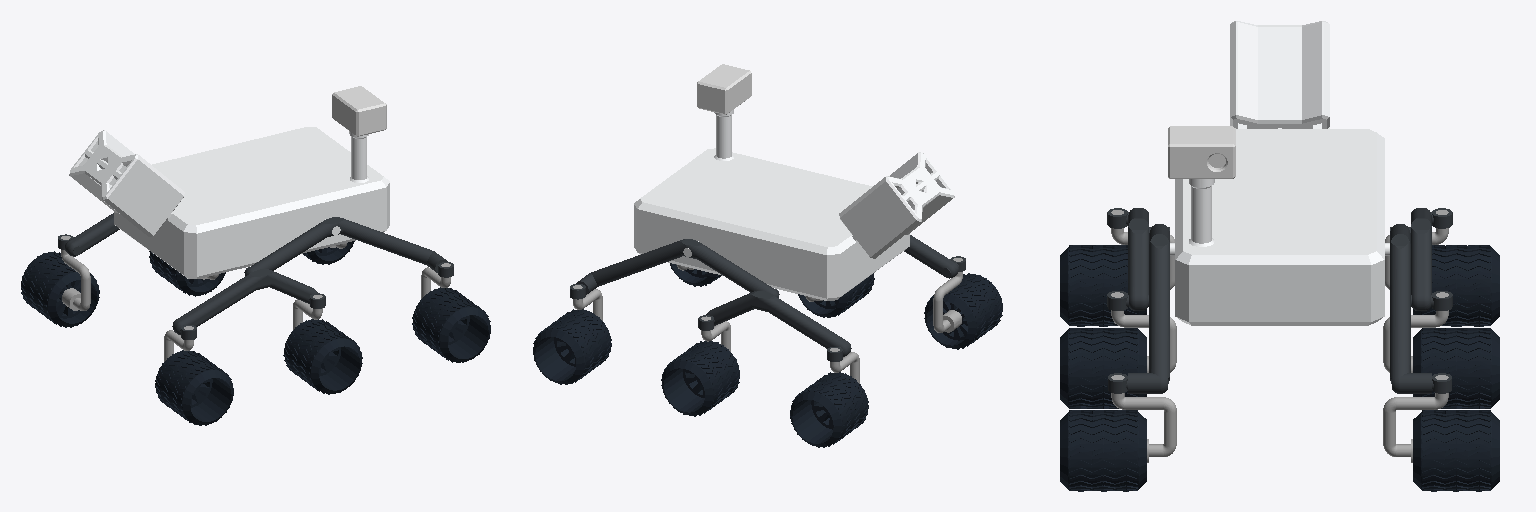
The robot description file, URDF, robot "RoverX_Suspension_Test":
<?xml version="1.0" ?>
<!-- Generated using onshape-to-robot -->
<!-- Onshape https://cad.onshape.com/documents/f6c131e0b382b911c5ad04b8/w/5d462194037e095bafb1c40a/e/74fb184207e34dc80b0fa883 -->
<robot name="RoverX_Suspension_Test">
  <!-- Link assembly_rover_v1 -->
  <link name="assembly_rover_v1">
    <inertial>
      <origin xyz="-0.790743 0.191508 0.967244" rpy="0 0 0"/>
      <mass value="1187.5"/>
      <inertia ixx="238.367" ixy="2.30027" ixz="20.0349" iyy="317.473" iyz="2.60807" izz="394.6"/>
    </inertial>
    <!-- Part chassis -->
    <visual>
      <origin xyz="-0.751982 0.195476 1.0593" rpy="0 -0 0"/>
      <geometry>
        <mesh filename="package://assets\chassis.stl"/>
      </geometry>
      <material name="chassis_material">
        <color rgba="0.984314 0.992157 1 1"/>
      </material>
    </visual>
    <collision>
      <origin xyz="-0.751982 0.195476 1.0593" rpy="0 -0 0"/>
      <geometry>
        <mesh filename="package://assets\chassis.stl"/>
      </geometry>
    </collision>
    <!-- Part head_camera -->
    <visual>
      <origin xyz="-0.751982 0.195476 1.0593" rpy="0 -0 0"/>
      <geometry>
        <mesh filename="package://assets\head_camera.stl"/>
      </geometry>
      <material name="head_camera_material">
        <color rgba="0.901961 0.901961 0.901961 1"/>
      </material>
    </visual>
    <collision>
      <origin xyz="-0.751982 0.195476 1.0593" rpy="0 -0 0"/>
      <geometry>
        <mesh filename="package://assets\head_camera.stl"/>
      </geometry>
    </collision>
    <!-- Part knuckle_lr -->
    <visual>
      <origin xyz="-0.751982 0.195956 1.0593" rpy="0 -0 0"/>
      <geometry>
        <mesh filename="package://assets\knuckle_lr.stl"/>
      </geometry>
      <material name="knuckle_lr_material">
        <color rgba="0.701961 0.701961 0.701961 1"/>
      </material>
    </visual>
    <collision>
      <origin xyz="-0.751982 0.195956 1.0593" rpy="0 -0 0"/>
      <geometry>
        <mesh filename="package://assets\knuckle_lr.stl"/>
      </geometry>
    </collision>
    <!-- Part wheel_lr -->
    <visual>
      <origin xyz="-2.34058 0.240956 0.820202" rpy="-3.14159 -1.06011 3.14159"/>
      <geometry>
        <mesh filename="package://assets\wheel_lr.stl"/>
      </geometry>
      <material name="wheel_lr_material">
        <color rgba="0.14902 0.180392 0.219608 1"/>
      </material>
    </visual>
    <collision>
      <origin xyz="-2.34058 0.240956 0.820202" rpy="-3.14159 -1.06011 3.14159"/>
      <geometry>
        <mesh filename="package://assets\wheel_lr.stl"/>
      </geometry>
    </collision>
    <!-- Part wheel_rf -->
    <visual>
      <origin xyz="-0.751982 0.150476 1.0593" rpy="0 -0 0"/>
      <geometry>
        <mesh filename="package://assets\wheel_rf.stl"/>
      </geometry>
      <material name="wheel_rf_material">
        <color rgba="0.14902 0.180392 0.219608 1"/>
      </material>
    </visual>
    <collision>
      <origin xyz="-0.751982 0.150476 1.0593" rpy="0 -0 0"/>
      <geometry>
        <mesh filename="package://assets\wheel_rf.stl"/>
      </geometry>
    </collision>
    <!-- Part knuckle_rf -->
    <visual>
      <origin xyz="-0.751982 0.195476 1.0593" rpy="0 -0 0"/>
      <geometry>
        <mesh filename="package://assets\knuckle_rf.stl"/>
      </geometry>
      <material name="knuckle_rf_material">
        <color rgba="0.701961 0.701961 0.701961 1"/>
      </material>
    </visual>
    <collision>
      <origin xyz="-0.751982 0.195476 1.0593" rpy="0 -0 0"/>
      <geometry>
        <mesh filename="package://assets\knuckle_rf.stl"/>
      </geometry>
    </collision>
    <!-- Part wheel_lf -->
    <visual>
      <origin xyz="-0.751982 0.240476 1.0593" rpy="0 -0 0"/>
      <geometry>
        <mesh filename="package://assets\wheel_lf.stl"/>
      </geometry>
      <material name="wheel_lf_material">
        <color rgba="0.14902 0.180392 0.219608 1"/>
      </material>
    </visual>
    <collision>
      <origin xyz="-0.751982 0.240476 1.0593" rpy="0 -0 0"/>
      <geometry>
        <mesh filename="package://assets\wheel_lf.stl"/>
      </geometry>
    </collision>
    <!-- Part knuckle_lf -->
    <visual>
      <origin xyz="-0.751982 0.195476 1.0593" rpy="0 -0 0"/>
      <geometry>
        <mesh filename="package://assets\knuckle_lf.stl"/>
      </geometry>
      <material name="knuckle_lf_material">
        <color rgba="0.701961 0.701961 0.701961 1"/>
      </material>
    </visual>
    <collision>
      <origin xyz="-0.751982 0.195476 1.0593" rpy="0 -0 0"/>
      <geometry>
        <mesh filename="package://assets\knuckle_lf.stl"/>
      </geometry>
    </collision>
    <!-- Part wheel_rm -->
    <visual>
      <origin xyz="-0.751982 0.149996 1.0593" rpy="0 -0 0"/>
      <geometry>
        <mesh filename="package://assets\wheel_rm.stl"/>
      </geometry>
      <material name="wheel_rm_material">
        <color rgba="0.14902 0.180392 0.219608 1"/>
      </material>
    </visual>
    <collision>
      <origin xyz="-0.751982 0.149996 1.0593" rpy="0 -0 0"/>
      <geometry>
        <mesh filename="package://assets\wheel_rm.stl"/>
      </geometry>
    </collision>
    <!-- Part knuckle_rm -->
    <visual>
      <origin xyz="-0.751982 0.194996 1.0593" rpy="0 -0 0"/>
      <geometry>
        <mesh filename="package://assets\knuckle_rm.stl"/>
      </geometry>
      <material name="knuckle_rm_material">
        <color rgba="0.701961 0.701961 0.701961 1"/>
      </material>
    </visual>
    <collision>
      <origin xyz="-0.751982 0.194996 1.0593" rpy="0 -0 0"/>
      <geometry>
        <mesh filename="package://assets\knuckle_rm.stl"/>
      </geometry>
    </collision>
    <!-- Part rocker_arm_r -->
    <visual>
      <origin xyz="-0.751982 0.195476 1.0593" rpy="0 -0 0"/>
      <geometry>
        <mesh filename="package://assets\rocker_arm_r.stl"/>
      </geometry>
      <material name="rocker_arm_r_material">
        <color rgba="0.262745 0.282353 0.301961 1"/>
      </material>
    </visual>
    <collision>
      <origin xyz="-0.751982 0.195476 1.0593" rpy="0 -0 0"/>
      <geometry>
        <mesh filename="package://assets\rocker_arm_r.stl"/>
      </geometry>
    </collision>
    <!-- Part bogie_arm_r -->
    <visual>
      <origin xyz="-0.751982 0.194996 1.0593" rpy="0 -0 0"/>
      <geometry>
        <mesh filename="package://assets\bogie_arm_r.stl"/>
      </geometry>
      <material name="bogie_arm_r_material">
        <color rgba="0.262745 0.282353 0.301961 1"/>
      </material>
    </visual>
    <collision>
      <origin xyz="-0.751982 0.194996 1.0593" rpy="0 -0 0"/>
      <geometry>
        <mesh filename="package://assets\bogie_arm_r.stl"/>
      </geometry>
    </collision>
    <!-- Part knuckle_lm -->
    <visual>
      <origin xyz="-0.751982 0.195956 1.0593" rpy="0 -0 0"/>
      <geometry>
        <mesh filename="package://assets\knuckle_lm.stl"/>
      </geometry>
      <material name="knuckle_lm_material">
        <color rgba="0.701961 0.701961 0.701961 1"/>
      </material>
    </visual>
    <collision>
      <origin xyz="-0.751982 0.195956 1.0593" rpy="0 -0 0"/>
      <geometry>
        <mesh filename="package://assets\knuckle_lm.stl"/>
      </geometry>
    </collision>
    <!-- Part wheel_lm -->
    <visual>
      <origin xyz="-0.751982 0.240956 1.0593" rpy="0 -0 0"/>
      <geometry>
        <mesh filename="package://assets\wheel_lm.stl"/>
      </geometry>
      <material name="wheel_lm_material">
        <color rgba="0.14902 0.180392 0.219608 1"/>
      </material>
    </visual>
    <collision>
      <origin xyz="-0.751982 0.240956 1.0593" rpy="0 -0 0"/>
      <geometry>
        <mesh filename="package://assets\wheel_lm.stl"/>
      </geometry>
    </collision>
    <!-- Part knuckle_rr -->
    <visual>
      <origin xyz="-0.751982 0.194996 1.0593" rpy="0 -0 0"/>
      <geometry>
        <mesh filename="package://assets\knuckle_rr.stl"/>
      </geometry>
      <material name="knuckle_rr_material">
        <color rgba="0.701961 0.701961 0.701961 1"/>
      </material>
    </visual>
    <collision>
      <origin xyz="-0.751982 0.194996 1.0593" rpy="0 -0 0"/>
      <geometry>
        <mesh filename="package://assets\knuckle_rr.stl"/>
      </geometry>
    </collision>
    <!-- Part wheel_rr -->
    <visual>
      <origin xyz="-0.751982 0.149996 1.0593" rpy="5.56531e-34 6.84722e-09 4.19271e-25"/>
      <geometry>
        <mesh filename="package://assets\wheel_rr.stl"/>
      </geometry>
      <material name="wheel_rr_material">
        <color rgba="0.14902 0.180392 0.219608 1"/>
      </material>
    </visual>
    <collision>
      <origin xyz="-0.751982 0.149996 1.0593" rpy="5.56531e-34 6.84722e-09 4.19271e-25"/>
      <geometry>
        <mesh filename="package://assets\wheel_rr.stl"/>
      </geometry>
    </collision>
    <!-- Part bogie_arm_l -->
    <visual>
      <origin xyz="-0.751982 0.195956 1.0593" rpy="0 -0 0"/>
      <geometry>
        <mesh filename="package://assets\bogie_arm_l.stl"/>
      </geometry>
      <material name="bogie_arm_l_material">
        <color rgba="0.262745 0.282353 0.301961 1"/>
      </material>
    </visual>
    <collision>
      <origin xyz="-0.751982 0.195956 1.0593" rpy="0 -0 0"/>
      <geometry>
        <mesh filename="package://assets\bogie_arm_l.stl"/>
      </geometry>
    </collision>
    <!-- Part rocker_arm_l -->
    <visual>
      <origin xyz="-0.751982 0.195476 1.0593" rpy="0 -0 0"/>
      <geometry>
        <mesh filename="package://assets\rocker_arm_l.stl"/>
      </geometry>
      <material name="rocker_arm_l_material">
        <color rgba="0.262745 0.282353 0.301961 1"/>
      </material>
    </visual>
    <collision>
      <origin xyz="-0.751982 0.195476 1.0593" rpy="0 -0 0"/>
      <geometry>
        <mesh filename="package://assets\rocker_arm_l.stl"/>
      </geometry>
    </collision>
  </link>
</robot>

--- What the picture shows (computed from the rendered views, not written in the file) ---
3 views of the same robot in one strip: view 1: azimuth 30°, elevation 25°; view 2: azimuth 150°, elevation 25°; view 3: azimuth 270°, elevation 25° (orthographic).
Model RoverX_Suspension_Test with 1 links and 0 joints (none), rooted at assembly_rover_v1, posed every joint at zero.
Links seen in each view (by area): view 1: assembly_rover_v1; view 2: assembly_rover_v1; view 3: assembly_rover_v1.
Boxes of the visible links, x1,y1,x2,y2 form: assembly_rover_v1: (21, 86, 490, 425); assembly_rover_v1: (533, 64, 1002, 447); assembly_rover_v1: (1060, 21, 1499, 491).
Size in the robot's own frame: 1.89 by 1.68 by 1.34 metres.
18 mesh visuals loaded from 18 distinct referenced files (18 binary STL).